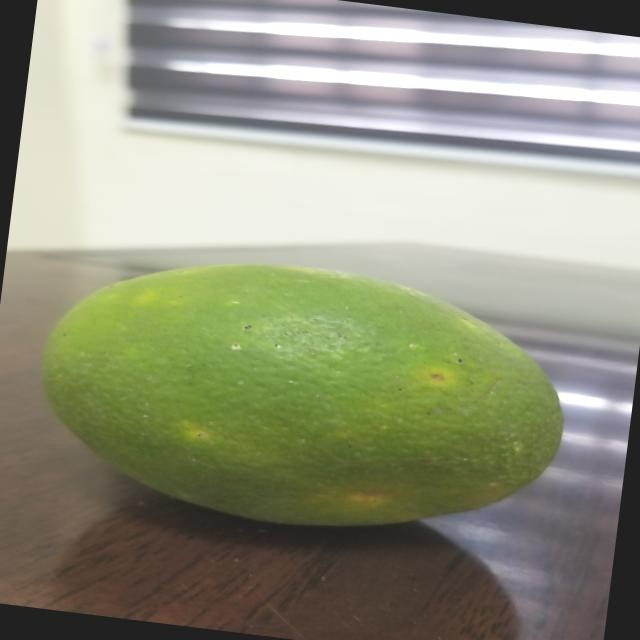agrume: (0, 215, 580, 556)
